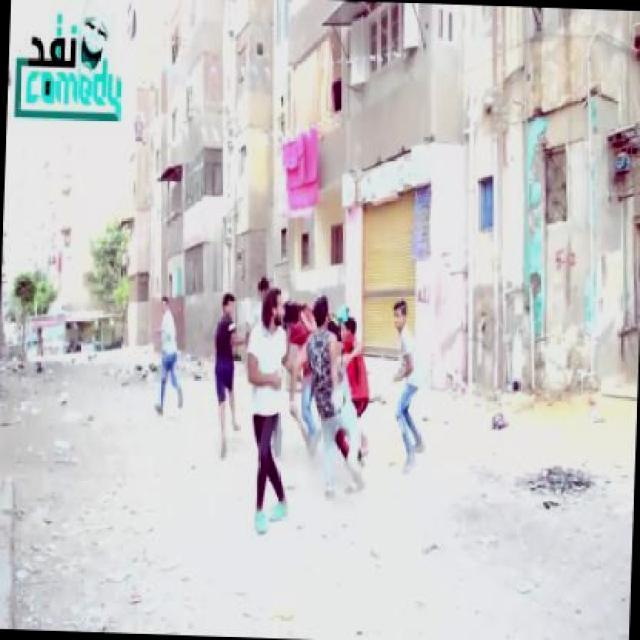fight: (291, 274, 378, 502)
non-fight: (239, 282, 299, 536), (383, 292, 432, 471), (208, 290, 248, 456), (153, 294, 189, 418)
